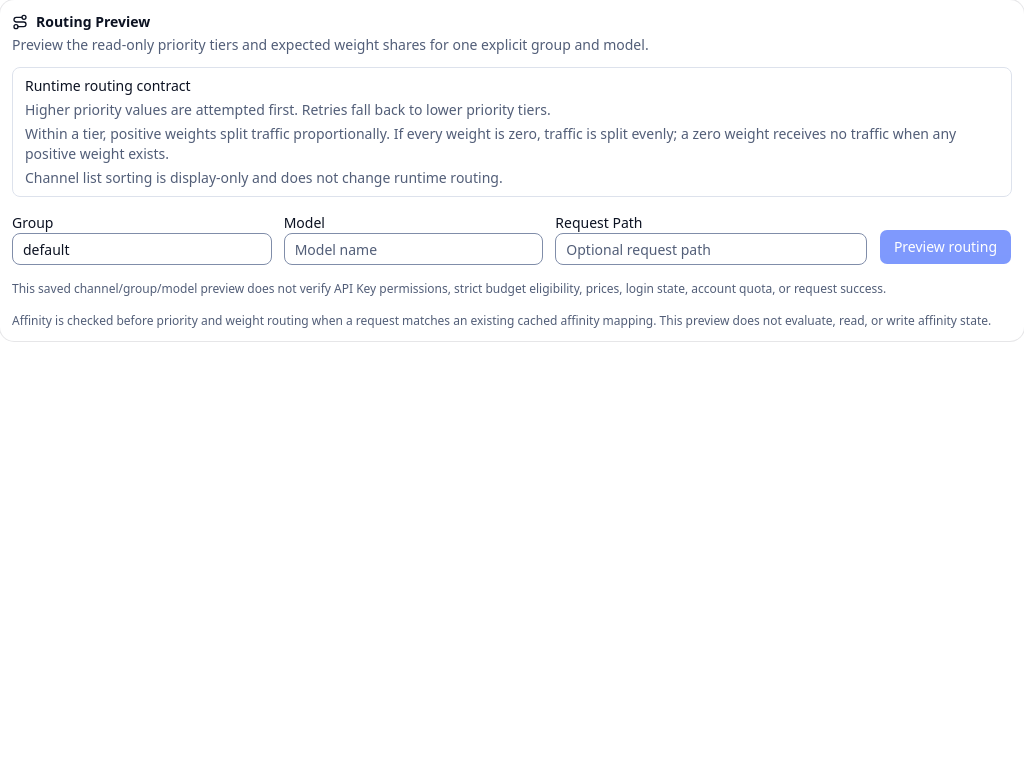
Test case: channel routing preview › submits an explicit route and renders effective shares
Type "gpt-test" into the field named "Routing preview model" at (413, 249), box [284,233,543,265]
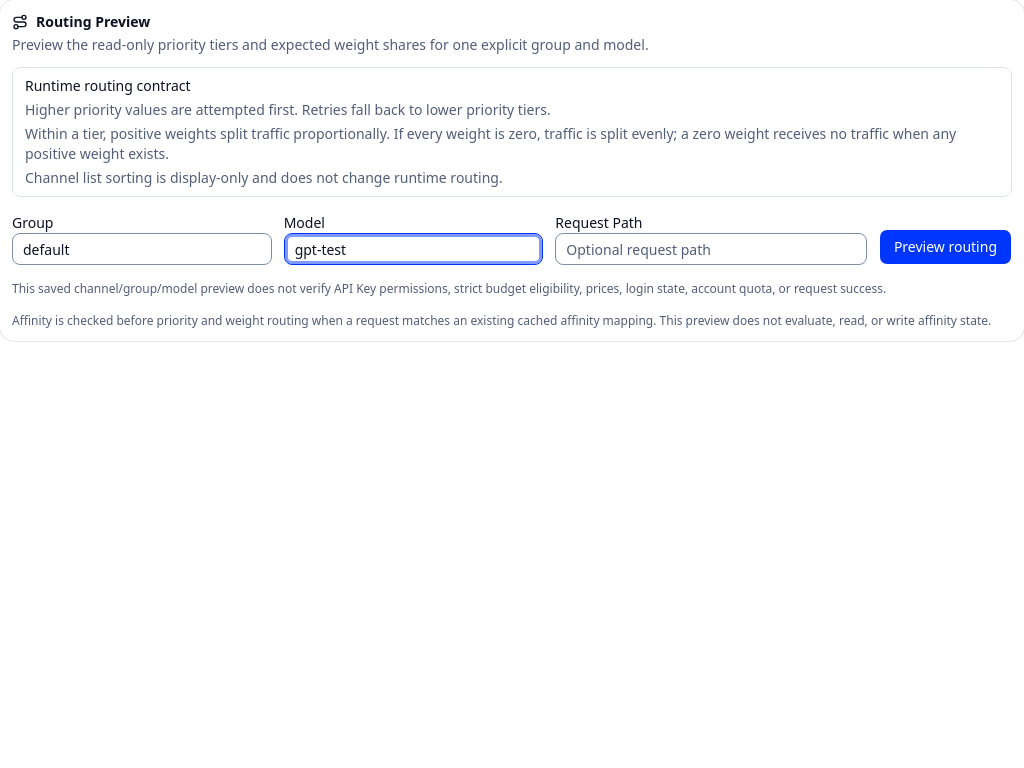
Type "/v1/responses" into the field named "Routing preview request path" at (711, 249), box [555,233,867,265]
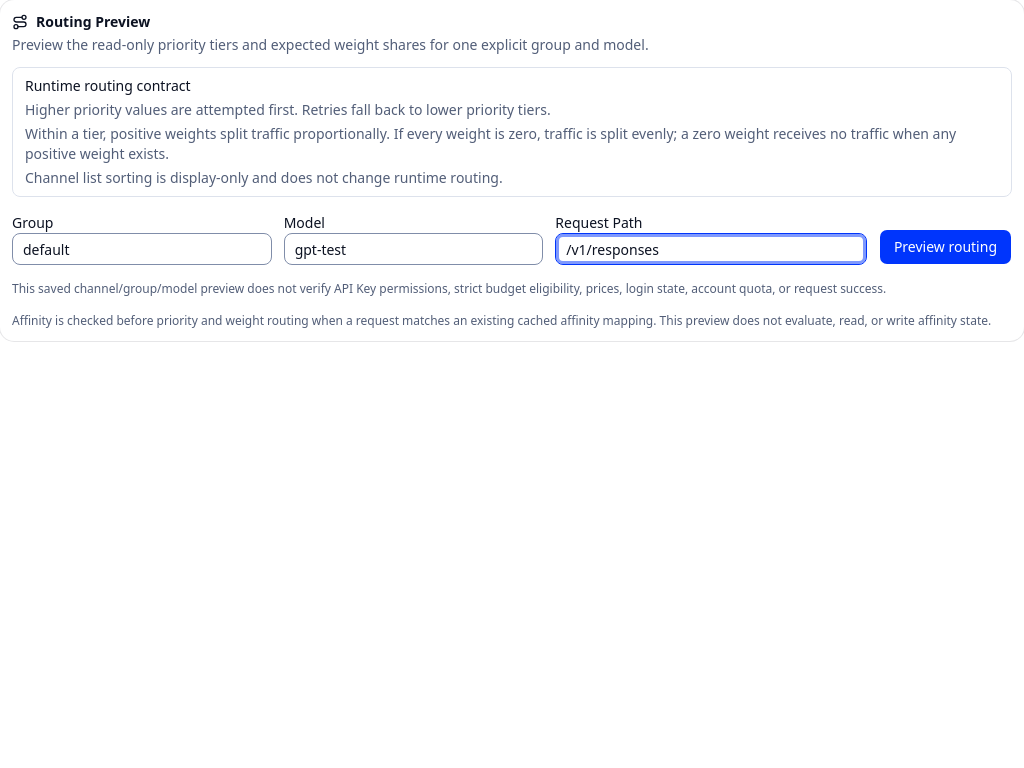
Click the button "Preview routing" at (945, 247), box [879,229,1012,265]
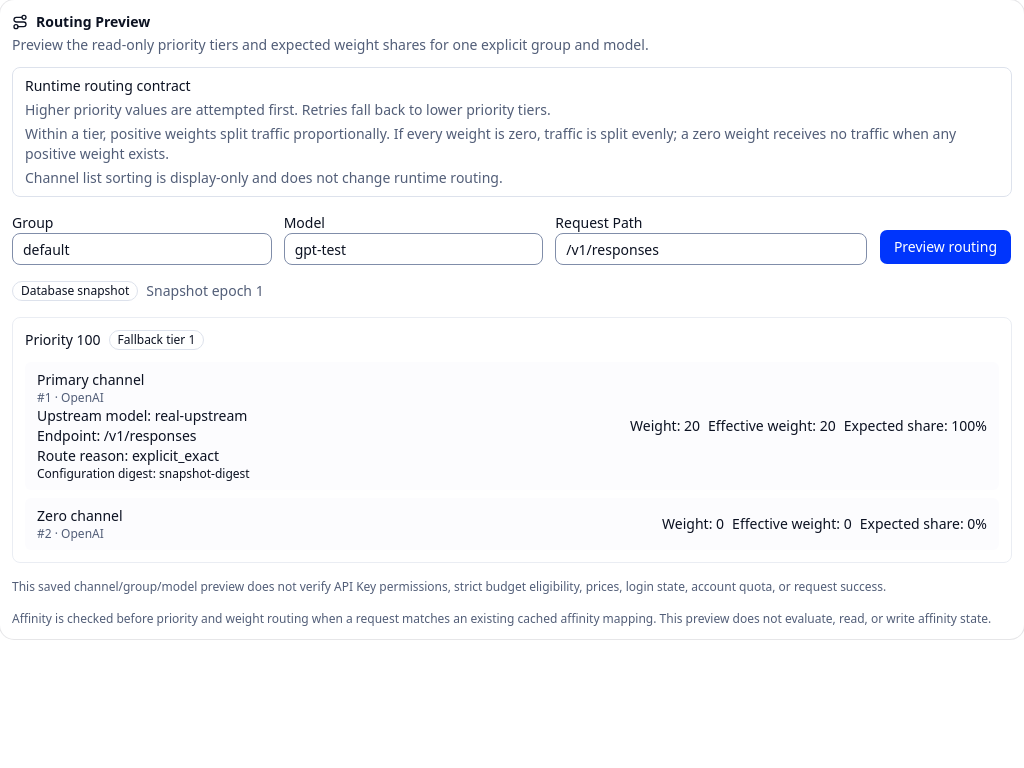
Now the text "Primary channel" is shown, box [37,370,144,389]
Now the text "Zero channel" is shown, box [37,506,123,525]
Now the text "Upstream model: real-upstream" is shown, box [37,406,247,425]
